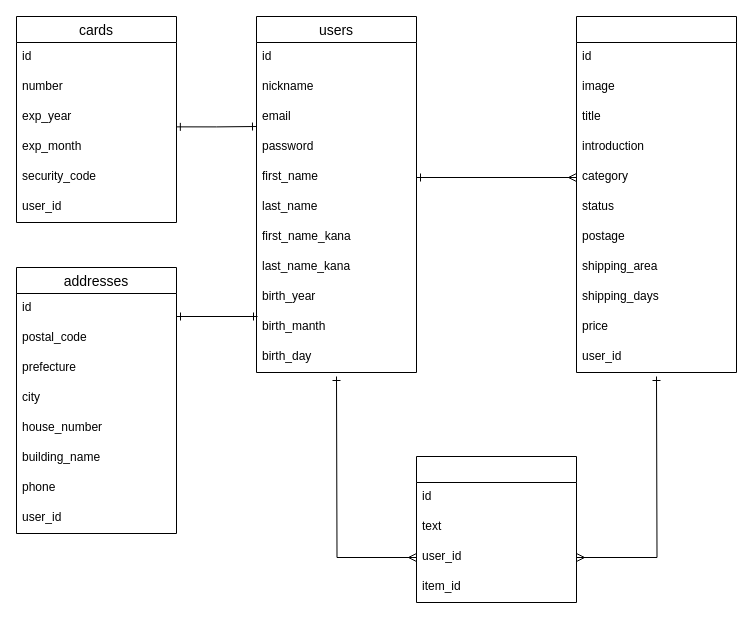
The diagram is 753 pixels wide and 619 high, and some of its shapes have lost their labels. The box of each missing label's shape, as (x1, y1, x2, y2) in pixels:
comments: (416, 456, 576, 602)
items: (576, 16, 736, 372)
